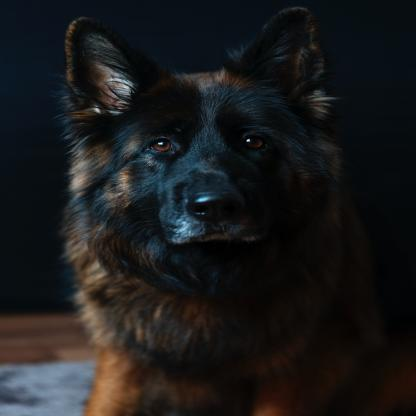dog: (54, 18, 367, 416)
